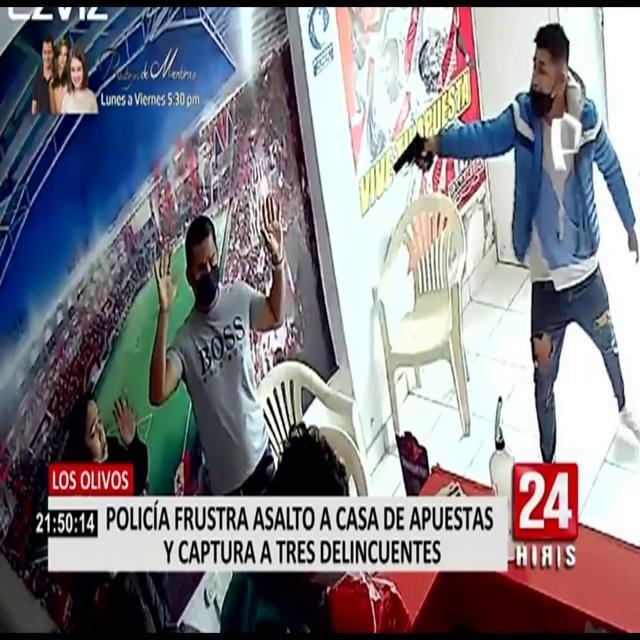weapon: (386, 106, 435, 205)
